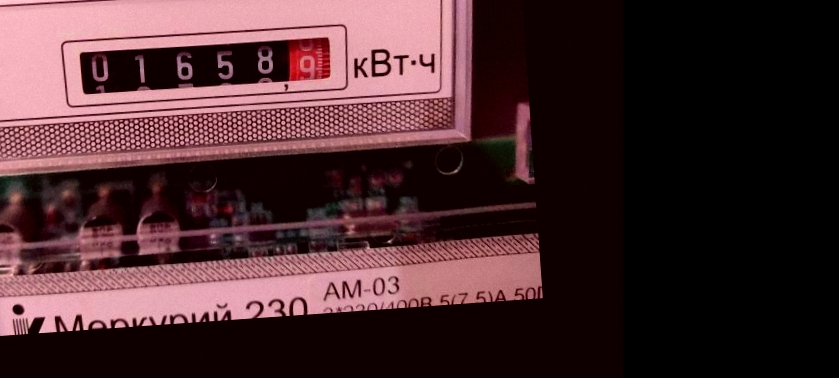0: (87, 51, 110, 82)
1: (131, 51, 150, 84)
5: (213, 47, 236, 79)
6: (172, 47, 195, 81)
8: (253, 41, 275, 75)
9: (294, 52, 317, 82)
screen: (50, 12, 355, 116)
